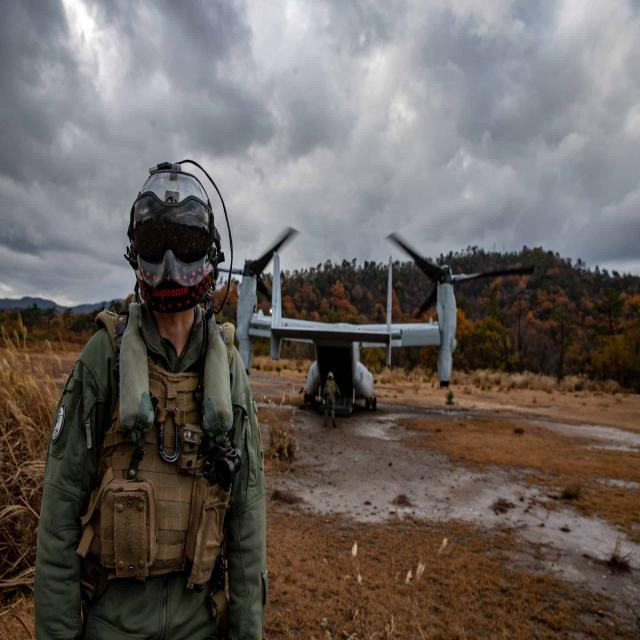MIL_Plane: (217, 226, 535, 417)
